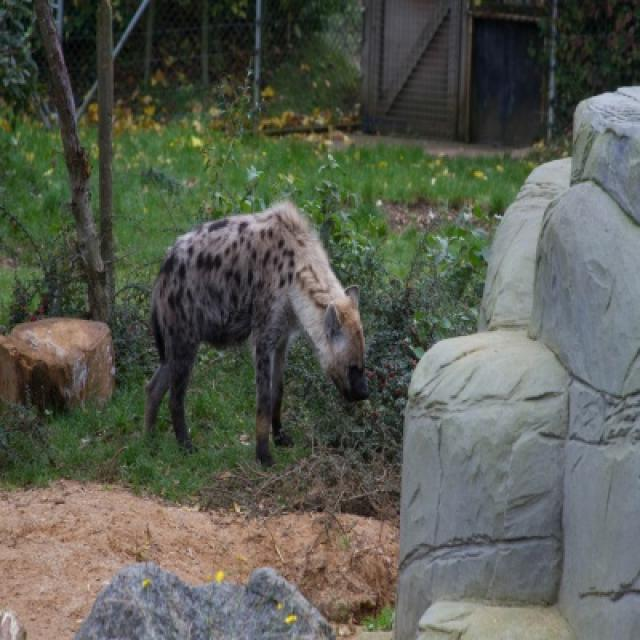hyena: (144, 200, 370, 469)
